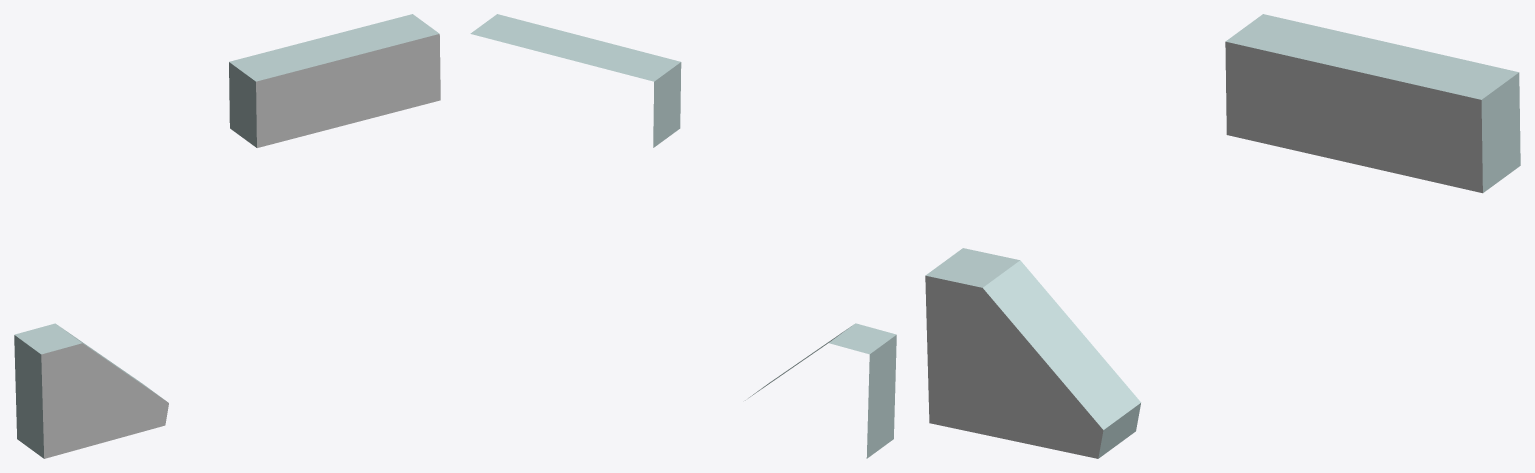
3 views of the same model, side by side, from view 1: azimuth 30°, elevation 25°; view 2: azimuth 150°, elevation 25°; view 3: azimuth 330°, elevation 25° (orthographic). The views are drawn at different scales.
Visible parts, largest first — view 1: 0_2_1_0_1_2_2_1_1; view 2: 0_2_1_0_1_2_2_1_1; view 3: 0_2_1_0_1_2_2_1_1.
Boxes of the visible parts, <box> form: 0_2_1_0_1_2_2_1_1: <box>14,14,440,458</box>; 0_2_1_0_1_2_2_1_1: <box>470,14,896,458</box>; 0_2_1_0_1_2_2_1_1: <box>925,14,1520,458</box>.
Bounding box in the file's own units: 25.57 × 20.07 × 3.03.
